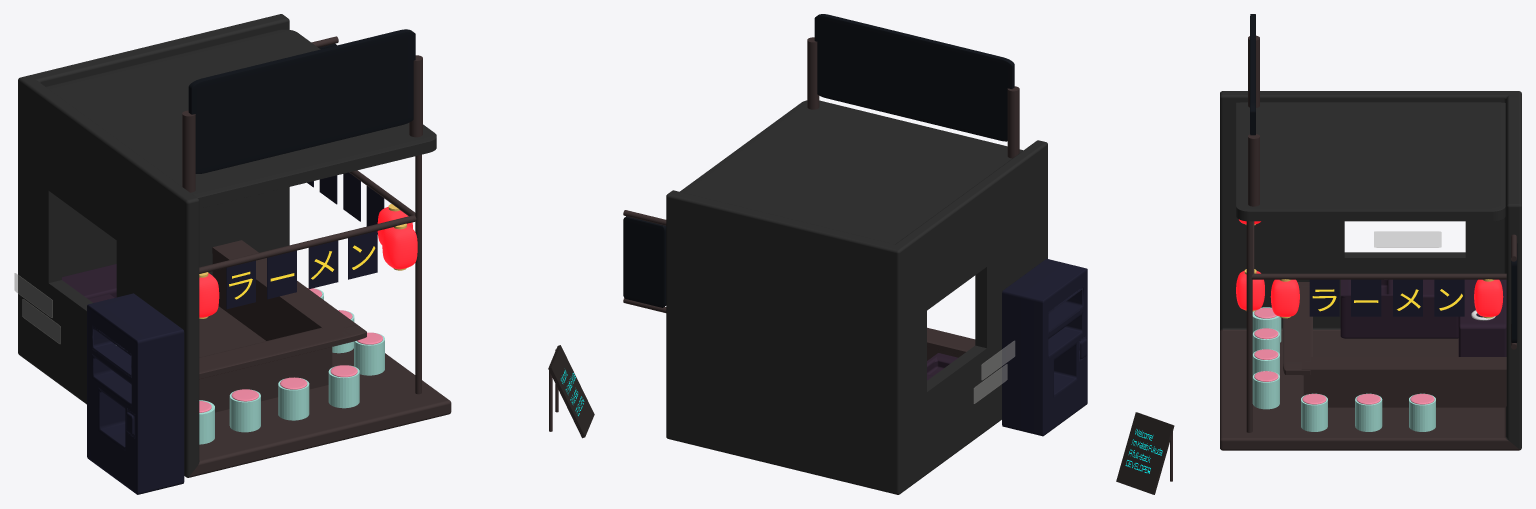
Rendered from ramen_shop-packed.glb.
The picture shows the model from 3 angles, left to right: view 1: azimuth 30°, elevation 25°; view 2: azimuth 150°, elevation 25°; view 3: azimuth 270°, elevation 25°; orthographic projection. The views are drawn at different scales.
Visible parts, largest first — view 1: object 1, object 44, backTable_2, object 5, object 53, backTable_1, table_1, Cube, pole_front, pole_right.001, object 13, lamp2 (+12 smaller); view 2: object 1, object 44, object 53, Cylinder.002, object 5, Cylinder.003; view 3: object 1, object 53, backTable_1, table_1, Cube, object 5, pole_right, object 44, object 13, pole_right.001, panel_n.002, panel_n.004 (+10 smaller).
Part boxes in pixels (x1,y1,x2,y2): object 1: (18, 14, 451, 477); object 44: (87, 29, 584, 494); backTable_2: (199, 347, 329, 412); object 5: (199, 324, 366, 379); object 53: (14, 264, 116, 345); backTable_1: (212, 254, 332, 368); table_1: (212, 240, 356, 328); Cube: (548, 345, 594, 438); pole_front: (199, 215, 416, 273); pole_right.001: (415, 154, 421, 394); object 13: (199, 288, 382, 412); lamp2: (382, 225, 417, 269); object 1: (666, 100, 1047, 494); object 44: (623, 14, 1087, 436); object 53: (927, 341, 1014, 403); Cylinder.002: (1007, 86, 1019, 158); object 5: (927, 327, 975, 355); Cylinder.003: (807, 37, 819, 109); object 1: (1220, 91, 1521, 450); object 53: (1340, 231, 1506, 356); backTable_1: (1305, 375, 1506, 407); table_1: (1301, 357, 1506, 375); Cube: (1116, 412, 1174, 494); object 5: (1283, 282, 1312, 374); pole_right: (1251, 273, 1506, 279); object 44: (1125, 14, 1517, 473); object 13: (1254, 308, 1434, 404); pole_right.001: (1246, 221, 1252, 432); panel_n.002: (1351, 279, 1381, 316); panel_n.004: (1434, 279, 1464, 316).
Bounding box in the file's own units: 7.11 × 6.23 × 6.72.
